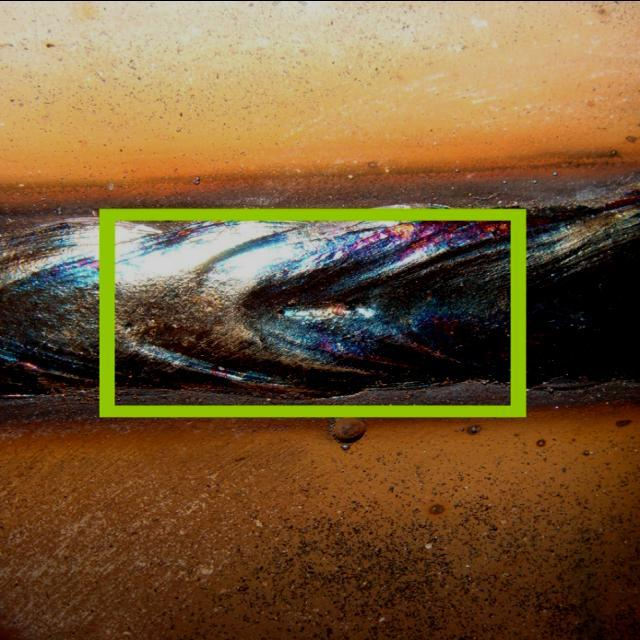Dry Waste: (30, 182, 612, 396)
